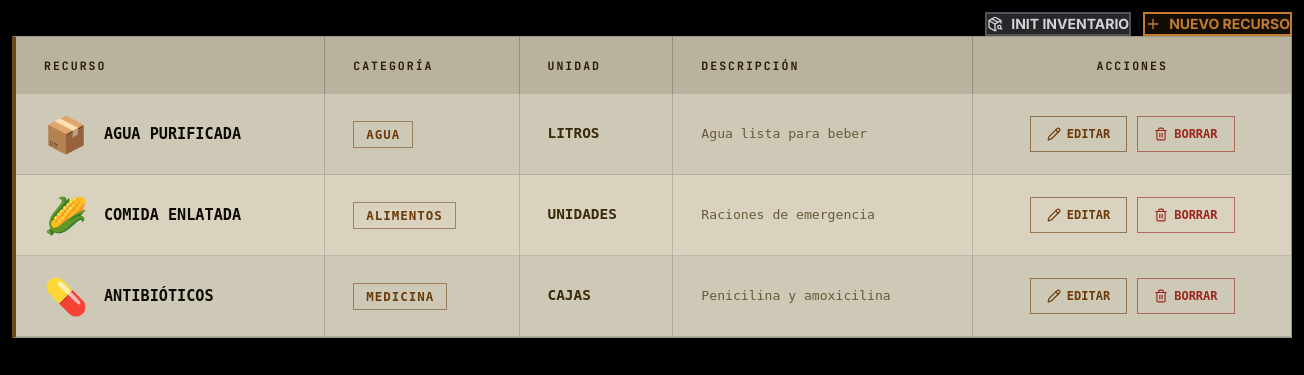
Test case: ManagerCatalog › handles INIT INVENTARIO error
This screenshot has width=1304, height=375.
Step 1. Click the button "INIT INVENTARIO" → (1058, 24), box [985, 12, 1131, 36]
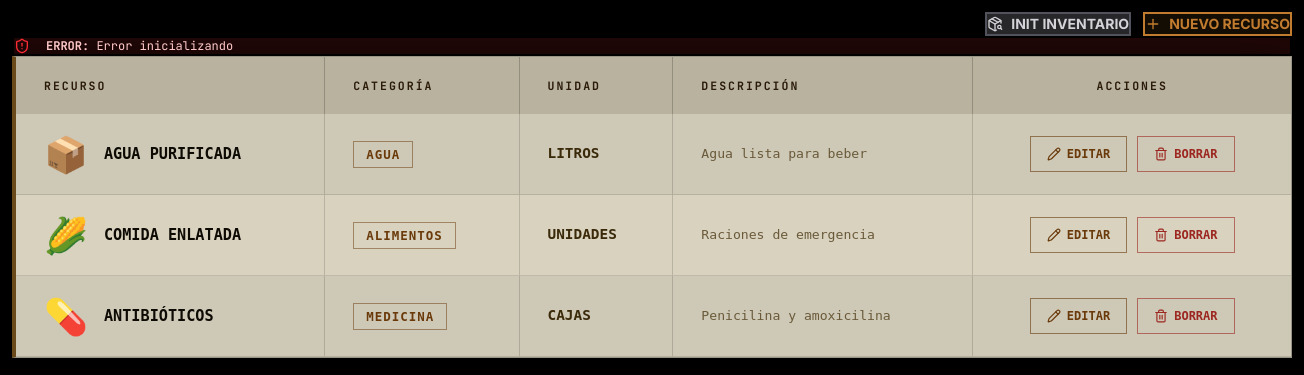
Check: the text "ERROR: Error inicializando" is shown, box [46, 38, 233, 54]
